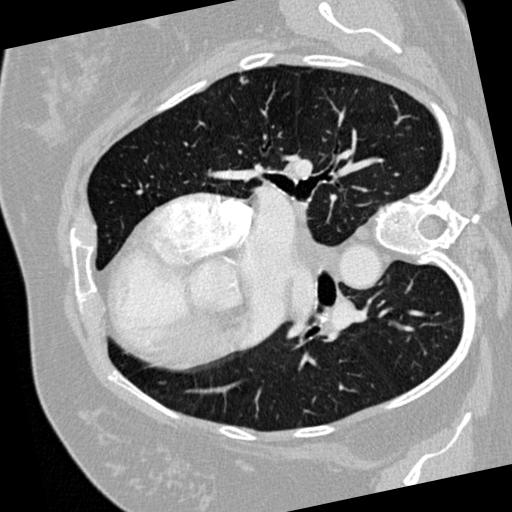nodule: (234, 71, 251, 88)
